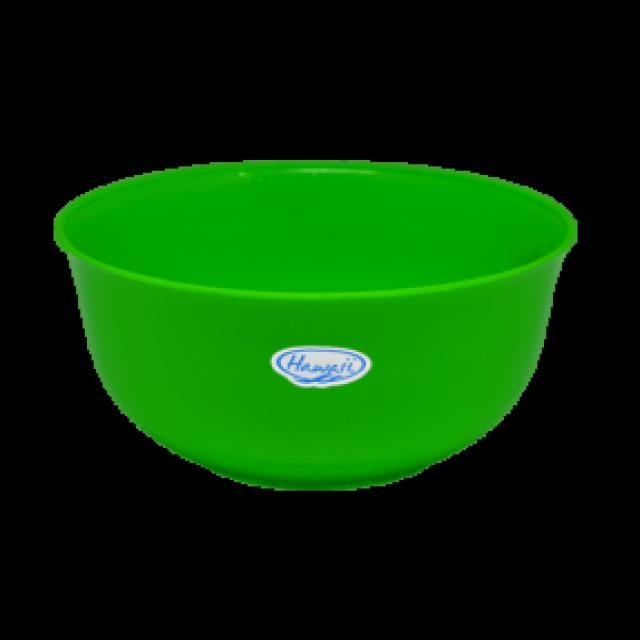Mangkok: (53, 153, 590, 502)
